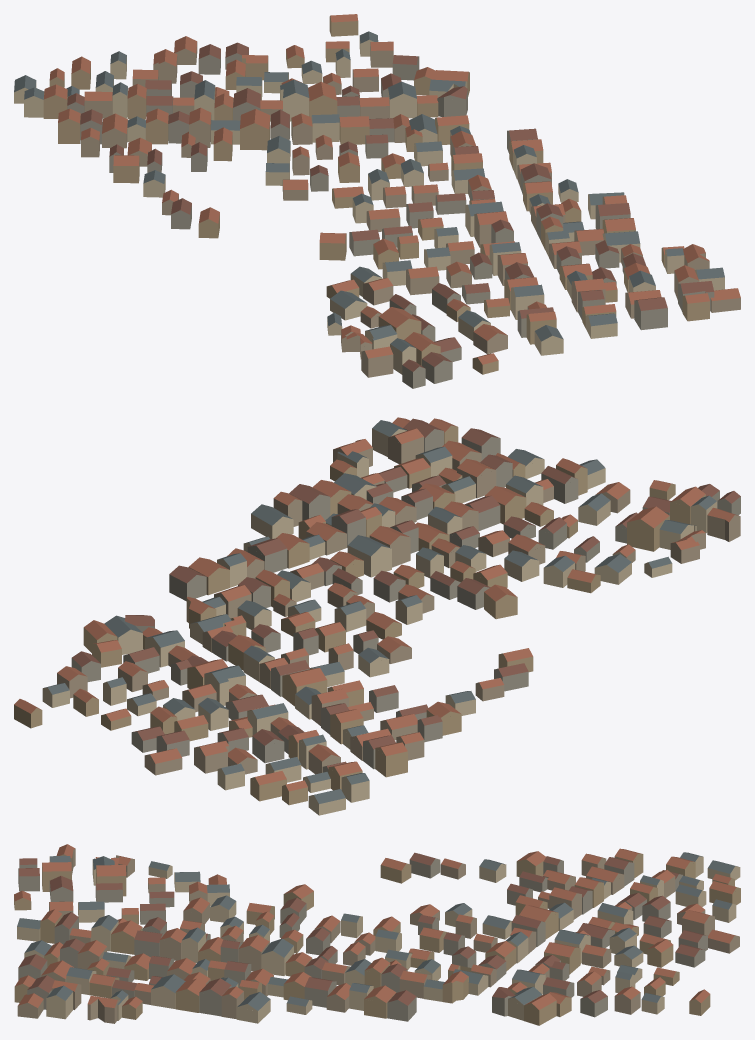
3 views of the same model, one above another, from view 1: azimuth 30°, elevation 25°; view 2: azimuth 150°, elevation 25°; view 3: azimuth 270°, elevation 25° (orthographic). The views are drawn at different scales.
Parts seen in each view (by area): view 1: C_0_2; view 2: C_0_2; view 3: C_0_2.
Part boxes in pixels (left/top/right/bottom): C_0_2: left=14, top=14, right=740, bottom=388; C_0_2: left=14, top=417, right=740, bottom=815; C_0_2: left=14, top=844, right=740, bottom=1025.
Bounding box in the file's own units: 194 × 14.51 × 369.
